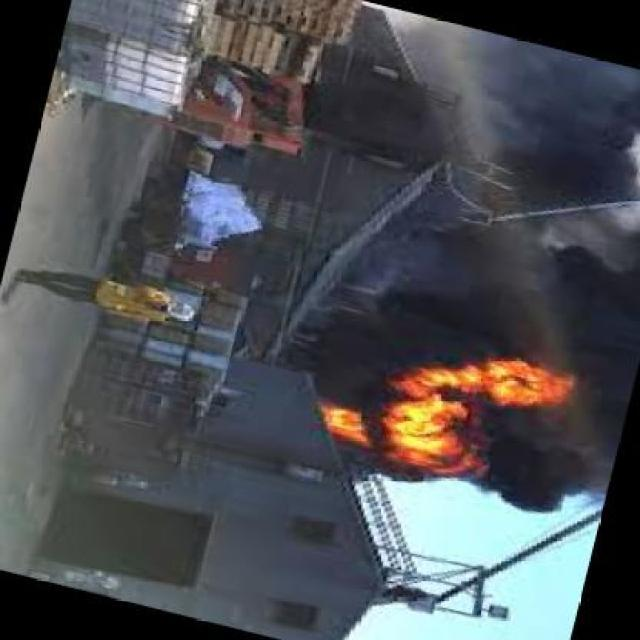Fire: (385, 360, 585, 408), (378, 404, 481, 482), (323, 400, 369, 456)
Smoke: (397, 32, 640, 228), (351, 222, 640, 358), (490, 417, 610, 508), (315, 315, 387, 395)
